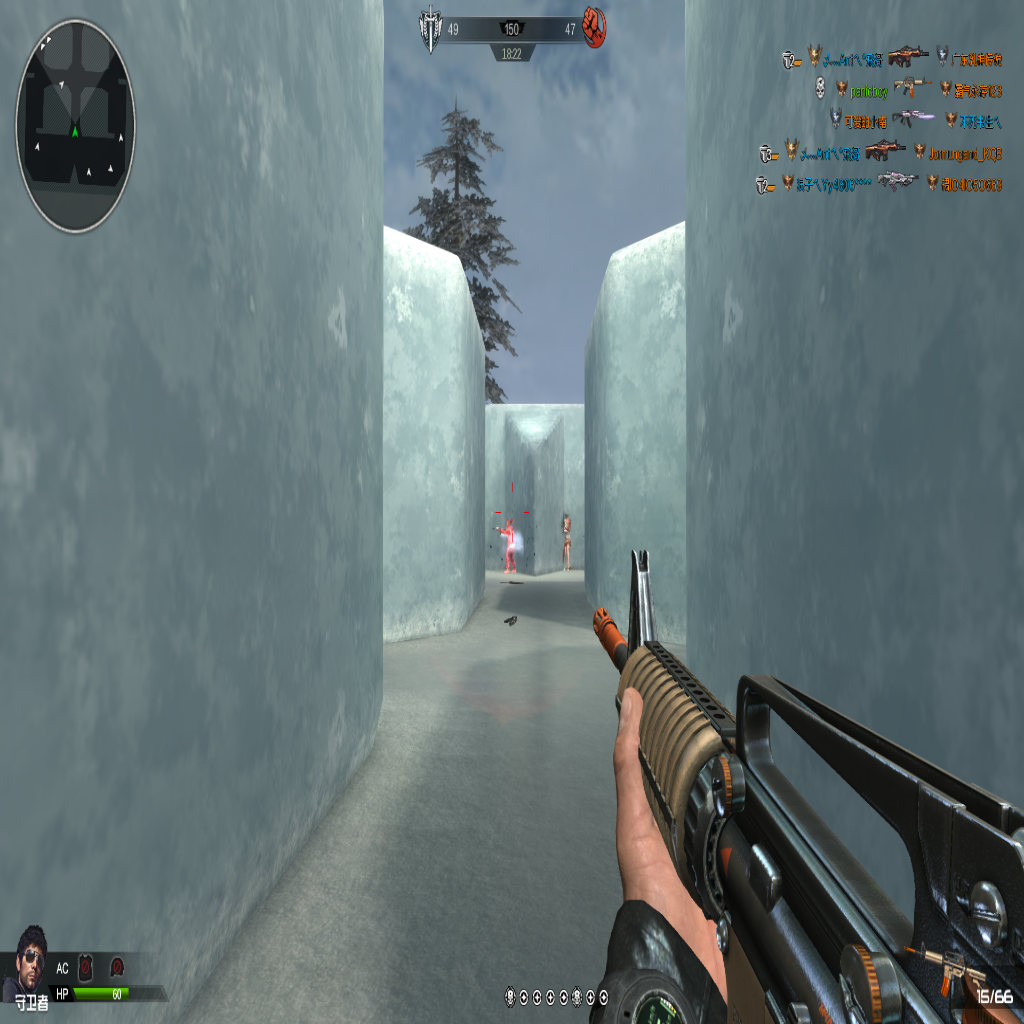tt: (561, 514, 571, 571)
